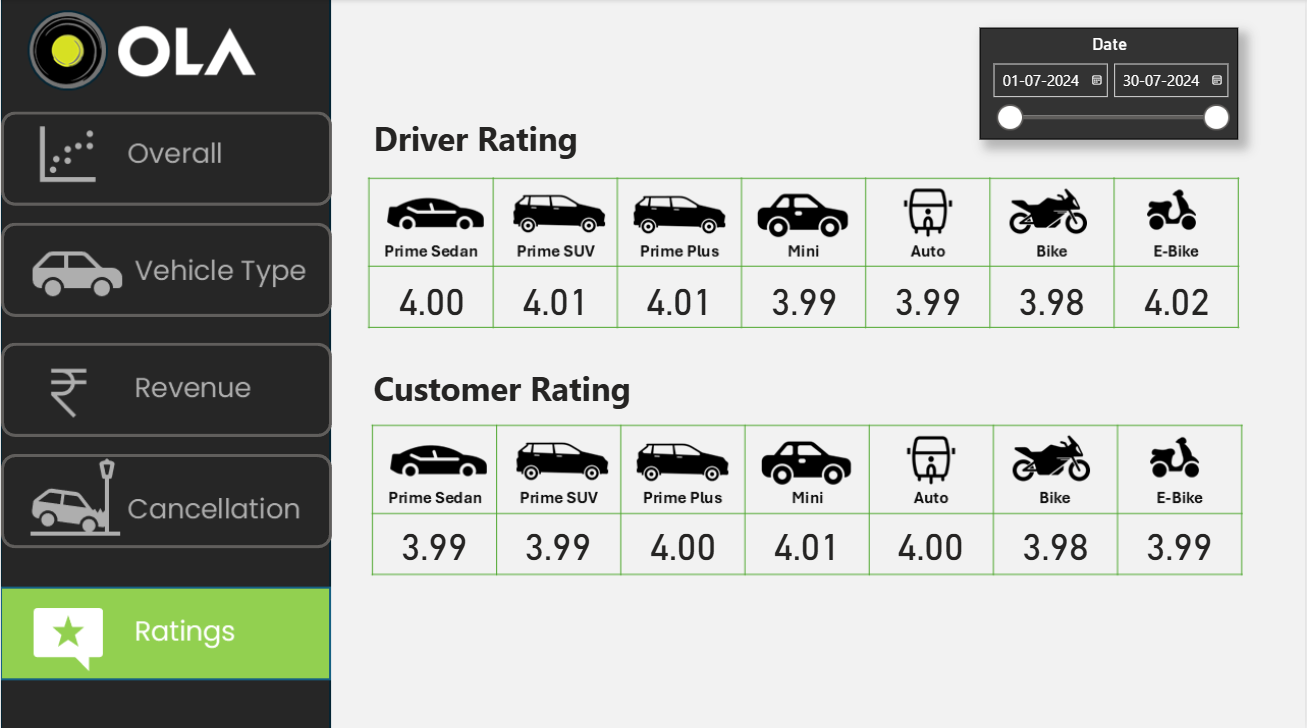

The page's visual inventory and layout, read from the dashboard file:
{"tool":"powerbi","page":{"name":"Ratings","canvas":[1280,720],"ordinal":4},"visuals":[{"type":"actionButton","box":[0,220,325,92.5],"z":0},{"type":"actionButton","box":[0,110,325,92.5],"z":1000},{"type":"actionButton","box":[0,337.5,325,92.5],"z":2000},{"type":"actionButton","box":[0,446.2,325,92.5],"z":3000},{"type":"card","fields":{"Values":["Avg(Bookings.Driver_Ratings)"]},"box":[362.1,266.3,121.9,57.2],"z":4000},{"type":"card","fields":{"Values":["Avg(Bookings.Driver_Ratings)"]},"box":[483.3,266.2,121.9,56.5],"z":5000},{"type":"card","fields":{"Values":["Avg(Bookings.Driver_Ratings)"]},"box":[605.2,266.2,121.9,56.5],"z":6000},{"type":"card","fields":{"Values":["Avg(Bookings.Driver_Ratings)"]},"box":[727.1,266.2,121.9,56.5],"z":7000},{"type":"card","fields":{"Values":["Avg(Bookings.Driver_Ratings)"]},"box":[849.1,266.2,121.9,56.5],"z":8000},{"type":"card","fields":{"Values":["Avg(Bookings.Driver_Ratings)"]},"box":[971,266.2,121.9,56.5],"z":9000},{"type":"card","fields":{"Values":["Avg(Bookings.Driver_Ratings)"]},"box":[1092.9,266.2,121.9,56.5],"z":10000},{"type":"card","fields":{"Values":["Avg(Bookings.Customer_Rating)"]},"box":[364.9,507,121.9,57.2],"z":11000},{"type":"card","fields":{"Values":["Avg(Bookings.Customer_Rating)"]},"box":[486.1,507,121.9,56.5],"z":12000},{"type":"card","fields":{"Values":["Avg(Bookings.Customer_Rating)"]},"box":[608.1,507,121.9,56.5],"z":13000},{"type":"card","fields":{"Values":["Avg(Bookings.Customer_Rating)"]},"box":[730,507,121.9,56.5],"z":14000},{"type":"card","fields":{"Values":["Avg(Bookings.Customer_Rating)"]},"box":[851.9,507,121.9,56.5],"z":15000},{"type":"card","fields":{"Values":["Avg(Bookings.Customer_Rating)"]},"box":[973.9,507,121.9,56.5],"z":16000},{"type":"card","fields":{"Values":["Avg(Bookings.Customer_Rating)"]},"box":[1095.8,507,121.9,56.5],"z":17000},{"type":"textbox","box":[361.3,110,212.6,56.5],"z":18000},{"type":"textbox","box":[361.3,355.4,278.1,56.5],"z":19000},{"type":"slicer","title":"Date","fields":{"Values":["Bookings.Date"]},"box":[960.5,28.6,253.8,109.5],"z":20000}]}

Visuals, with their boxes in screenshot pixels (x1, y1, x2, y2), scaled from the page's 1280x720 canvas onto the 1307x728 screenshot:
actionButton: box=[0, 222, 332, 316]
actionButton: box=[0, 111, 332, 205]
actionButton: box=[0, 341, 332, 435]
actionButton: box=[0, 451, 332, 545]
card - Avg(Bookings.Driver_Ratings): box=[370, 269, 494, 327]
card - Avg(Bookings.Driver_Ratings): box=[493, 269, 618, 326]
card - Avg(Bookings.Driver_Ratings): box=[618, 269, 742, 326]
card - Avg(Bookings.Driver_Ratings): box=[742, 269, 867, 326]
card - Avg(Bookings.Driver_Ratings): box=[867, 269, 991, 326]
card - Avg(Bookings.Driver_Ratings): box=[991, 269, 1116, 326]
card - Avg(Bookings.Driver_Ratings): box=[1116, 269, 1240, 326]
card - Avg(Bookings.Customer_Rating): box=[373, 513, 497, 570]
card - Avg(Bookings.Customer_Rating): box=[496, 513, 621, 570]
card - Avg(Bookings.Customer_Rating): box=[621, 513, 745, 570]
card - Avg(Bookings.Customer_Rating): box=[745, 513, 870, 570]
card - Avg(Bookings.Customer_Rating): box=[870, 513, 994, 570]
card - Avg(Bookings.Customer_Rating): box=[994, 513, 1119, 570]
card - Avg(Bookings.Customer_Rating): box=[1119, 513, 1243, 570]
textbox: box=[369, 111, 586, 168]
textbox: box=[369, 359, 653, 416]
"Date" slicer: box=[981, 29, 1240, 140]
